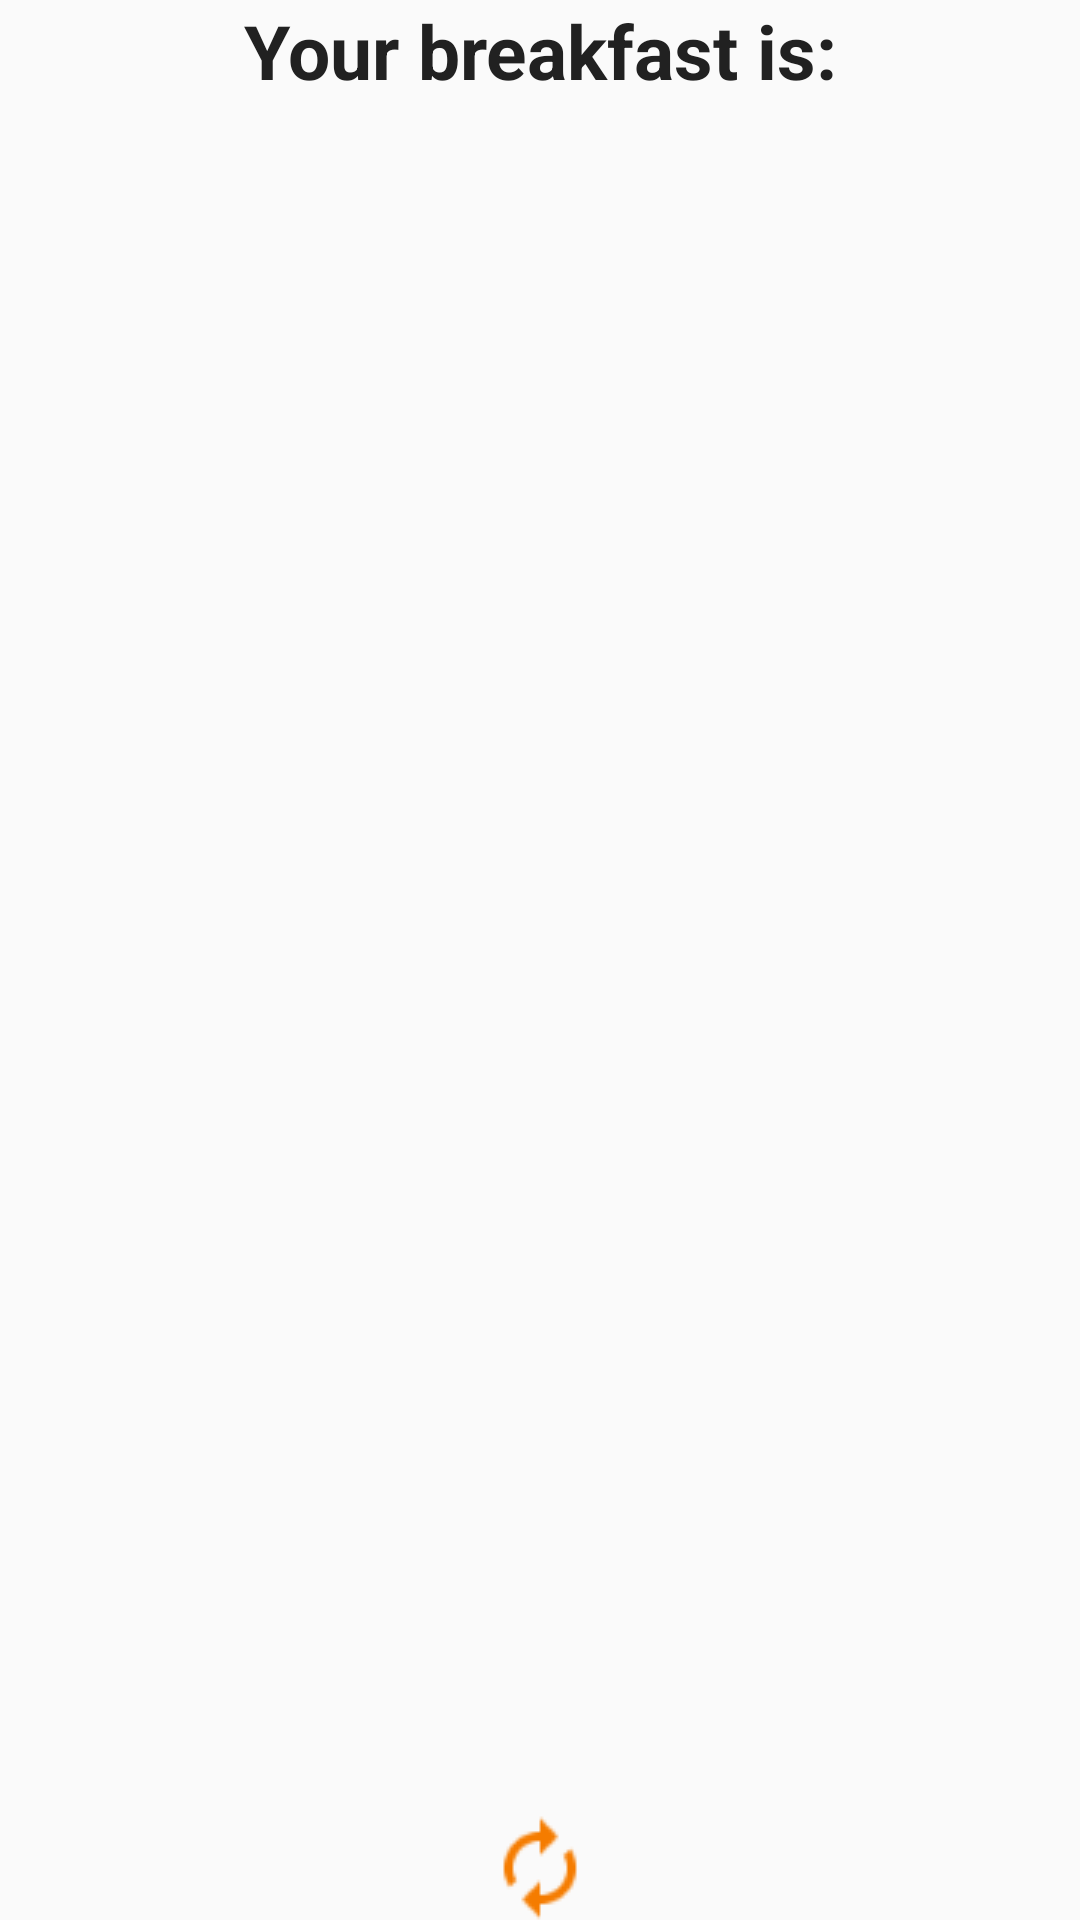

Icon click points for this 1080px×1920px phone screenshot, format [x,y]:
autorenew: [540,1868]
